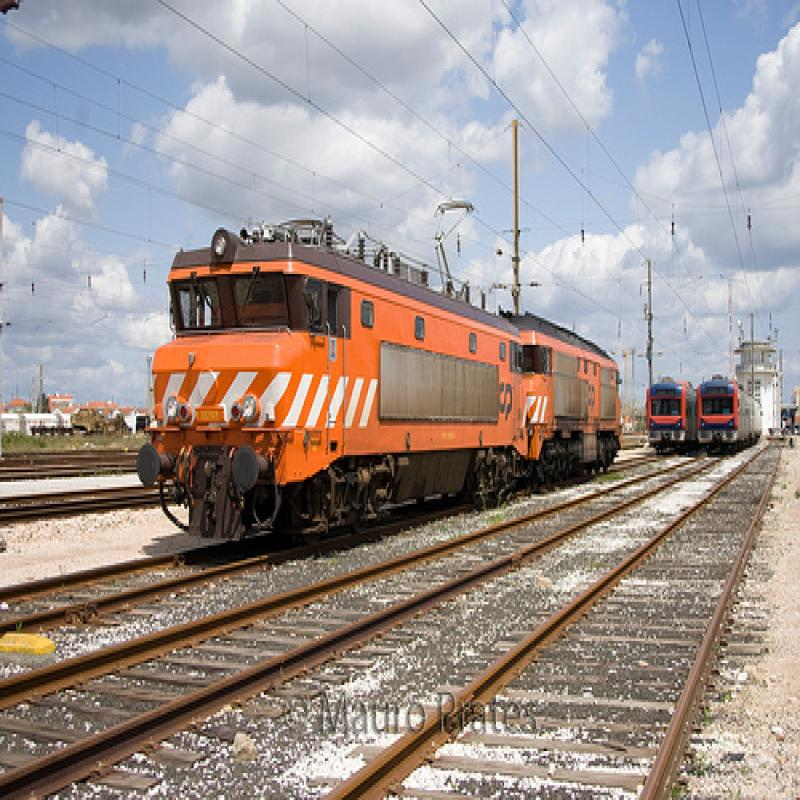train: (148, 219, 625, 532), (699, 380, 764, 449), (646, 375, 697, 454)
